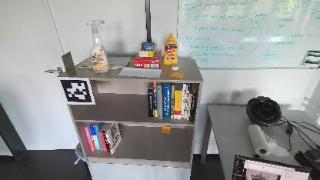book-spine: (83, 125, 94, 152), (173, 91, 183, 119), (163, 84, 171, 118), (90, 125, 100, 150), (183, 85, 190, 119), (94, 125, 103, 151), (102, 130, 111, 153), (156, 85, 162, 119), (105, 130, 113, 154), (190, 92, 196, 122), (153, 82, 158, 117), (181, 84, 186, 118), (147, 89, 153, 117), (99, 132, 107, 152), (187, 93, 192, 120), (171, 85, 174, 119)
